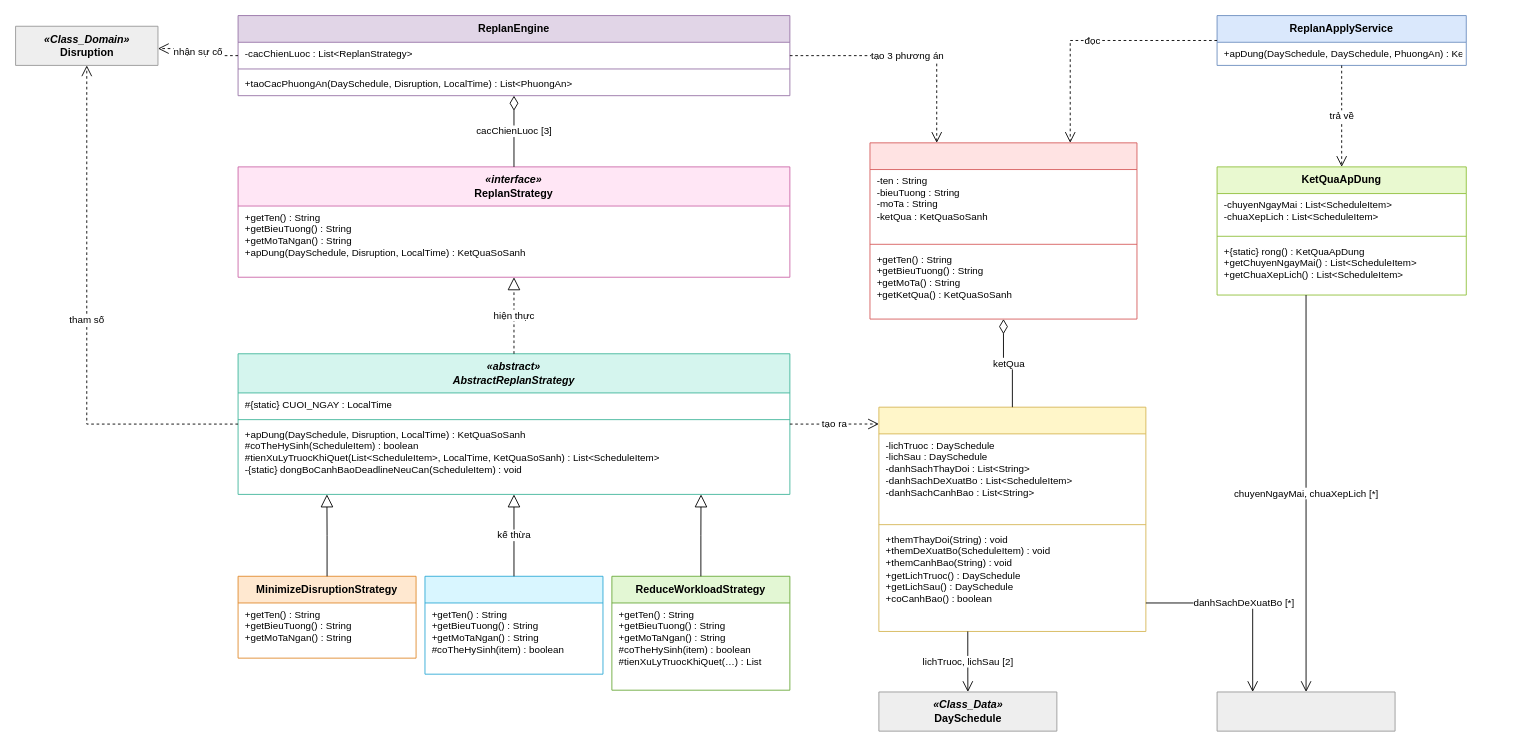
Image size: 1534x747. Some labels were removed from this diagram. The box of each missing label's shape, as (x1, y1, x2, y2) in pixels:
DeadlineFirstStrategy: (424, 575, 603, 674)
KetQuaSoSanh: (878, 406, 1146, 631)
PhuongAn: (869, 142, 1137, 319)
«Class_Domain» ScheduleItem: (1216, 691, 1395, 731)
